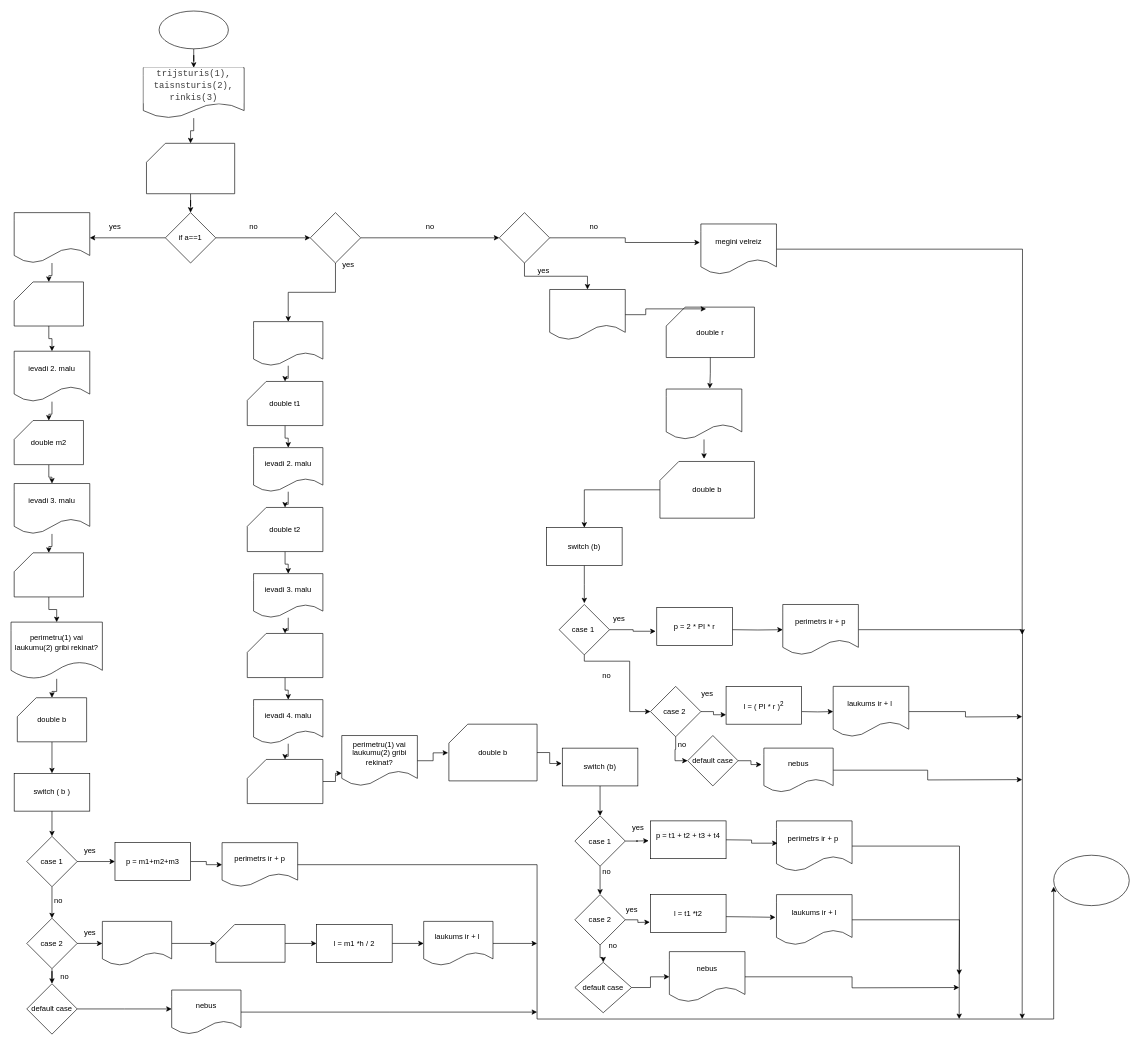
The diagram is 1140 pixels wide and 1045 high, and some of its shapes have lost their labels. Here are the shapes that lost their labels. From the top down, the centre of each, then its label:
pixel 193 29: start
pixel 190 168: double a
pixel 52 237: ievadi pamata malu
pixel 335 237: if a==2
pixel 524 237: if a==3
pixel 48 303: double m1
pixel 587 314: ievadi radiusu
pixel 288 343: ievadi 1. malu
pixel 704 413: perimetru (1) vai laukumu(2) gribi rekinat
pixel 48 574: double m3
pixel 285 655: double t3
pixel 285 781: double t4
pixel 1091 880: end
pixel 137 943: ievadi augstumu pret pamatu
pixel 250 943: double h
